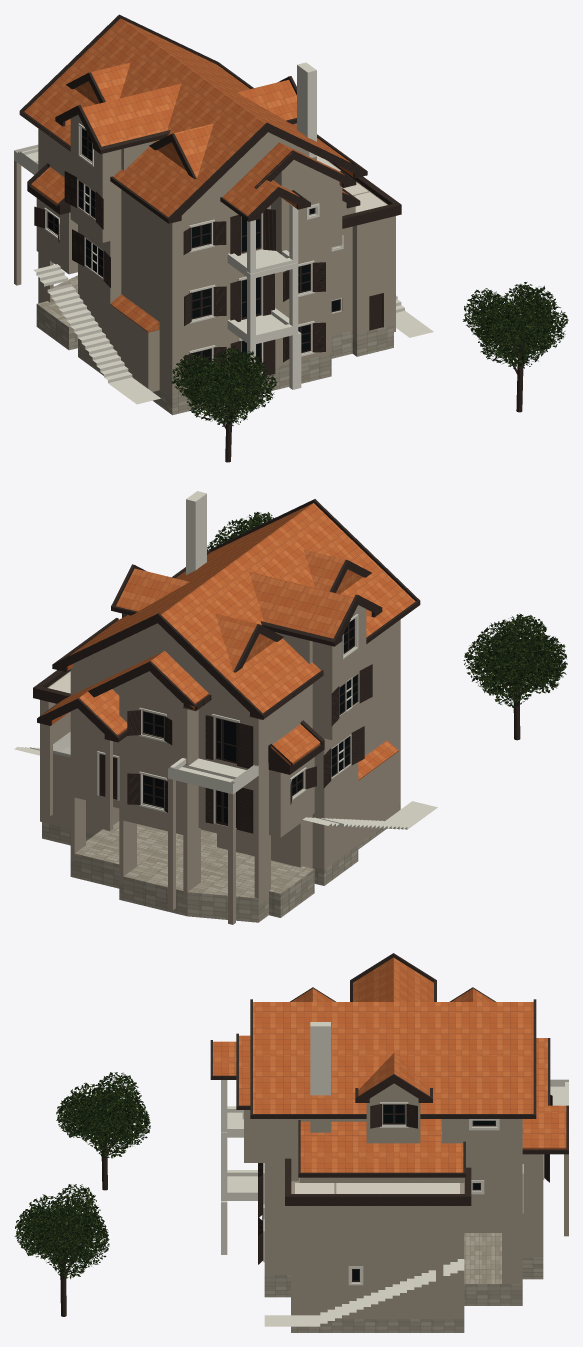
File: context-detail-b30.glb
3 renders of one model, top to bottom at view 1: azimuth 30°, elevation 25°; view 2: azimuth 150°, elevation 25°; view 3: azimuth 270°, elevation 25°, orthographic. The views are drawn at different scales.
Visible parts, largest first — view 1: B30 | ÇATII.003, B30 | KAT 1$DUVAR, B30 | KAT 2$DUVAR, B30 | KAT 0$DUVAR, B30 | ek dalgalar, B30 | ÇATI ALIN.002, Individual folded leaves.014, Individual folded leaves.013, B30 foundation below BK, B30 | KAT 3$DUVAR, B30 | PENCERE_KAPI$SHUTTER.001, B30 | ek dalgalar.001 (+15 smaller); view 2: B30 | ÇATII.003, B30 | KAT 0$DUVAR, B30 | KAT 1$DUVAR, B30 foundation below BK, B30 | KAT 2$DUVAR, B30 | ÇATI ALIN.002, B30 | KAT 3$DUVAR, Individual folded leaves.013, B30 | ÇATI ALIN.001, B30 | PENCERE_KAPI$SHUTTER.001, B30 | ÇATII.002, B30 | PENCERE_KAPI$SHUTTER.002 (+12 smaller); view 3: B30 | ÇATII.003, B30 | KAT 1$DUVAR, B30 | KAT 0$DUVAR, B30 | ÇATII.002, B30 | KAT 2$DUVAR, B30 foundation below BK, Individual folded leaves.014, Individual folded leaves.013, B30 | ek dalgalar, B30 | ÇATI ALIN.001, B30 | ÇATI ALIN.002, B30 | ÇATI ALIN (+6 smaller).
Part boxes in pixels (x1,y1,x2,y2): B30 | ÇATII.003: (24, 18, 350, 217); B30 | KAT 1$DUVAR: (36, 159, 395, 339); B30 | KAT 2$DUVAR: (38, 129, 355, 275); B30 | KAT 0$DUVAR: (14, 160, 395, 398); B30 | ek dalgalar: (33, 264, 433, 404); B30 | ÇATI ALIN.002: (20, 14, 367, 221); Individual folded leaves.014: (463, 282, 568, 369); Individual folded leaves.013: (171, 346, 277, 426); B30 foundation below BK: (36, 275, 393, 415); B30 | KAT 3$DUVAR: (70, 115, 339, 211); B30 | PENCERE_KAPI$SHUTTER.001: (34, 206, 325, 325); B30 | ek dalgalar.001: (14, 147, 298, 358); B30 | ÇATII.003: (70, 503, 415, 712); B30 | KAT 0$DUVAR: (40, 739, 400, 924); B30 | KAT 1$DUVAR: (40, 671, 400, 842); B30 foundation below BK: (42, 802, 400, 922); B30 | KAT 2$DUVAR: (70, 619, 400, 774); B30 | ÇATI ALIN.002: (52, 499, 419, 719); B30 | KAT 3$DUVAR: (73, 605, 366, 707); Individual folded leaves.013: (463, 613, 567, 708); B30 | ÇATI ALIN.001: (37, 550, 420, 768); B30 | PENCERE_KAPI$SHUTTER.001: (127, 726, 364, 833); B30 | ÇATII.002: (42, 663, 320, 763); B30 | PENCERE_KAPI$SHUTTER.002: (122, 613, 372, 768); B30 | ÇATII.003: (213, 957, 547, 1113); B30 | KAT 1$DUVAR: (264, 1154, 568, 1260); B30 | KAT 0$DUVAR: (264, 1206, 568, 1318); B30 | ÇATII.002: (300, 1105, 566, 1172); B30 | KAT 2$DUVAR: (244, 1110, 522, 1182); B30 foundation below BK: (264, 1233, 543, 1332); Individual folded leaves.014: (14, 1184, 109, 1279); Individual folded leaves.013: (56, 1072, 150, 1158); B30 | ek dalgalar: (221, 1170, 464, 1326); B30 | ÇATI ALIN.001: (210, 1076, 568, 1177); B30 | ÇATI ALIN.002: (210, 953, 550, 1114); B30 | ÇATI ALIN: (285, 1158, 471, 1205).
Size of the model in its own units: 18.95 by 14.71 by 26.89.
Materials: 12 (12 with a texture image).
